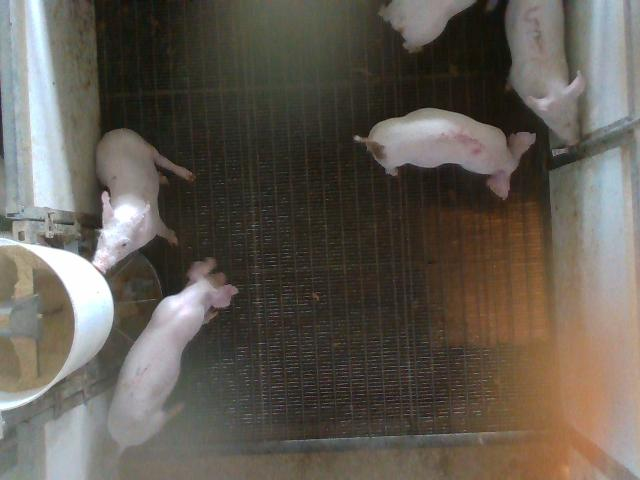pig-3: (505, 0, 585, 144)
pig-5: (354, 109, 535, 198)
